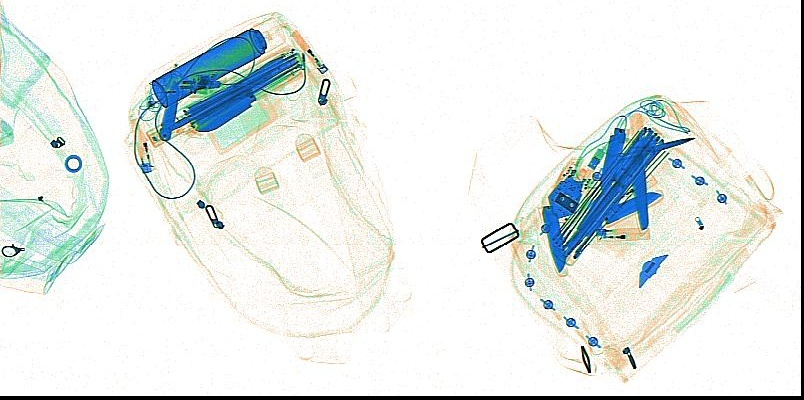knife: (194, 85, 256, 133), (627, 110, 649, 230), (603, 190, 663, 227), (538, 204, 568, 276), (597, 123, 629, 190), (157, 80, 178, 141)
lighter: (290, 27, 329, 75), (130, 116, 152, 175), (595, 226, 648, 242)
pressure: (149, 18, 287, 110)
scissors: (611, 136, 696, 165)
